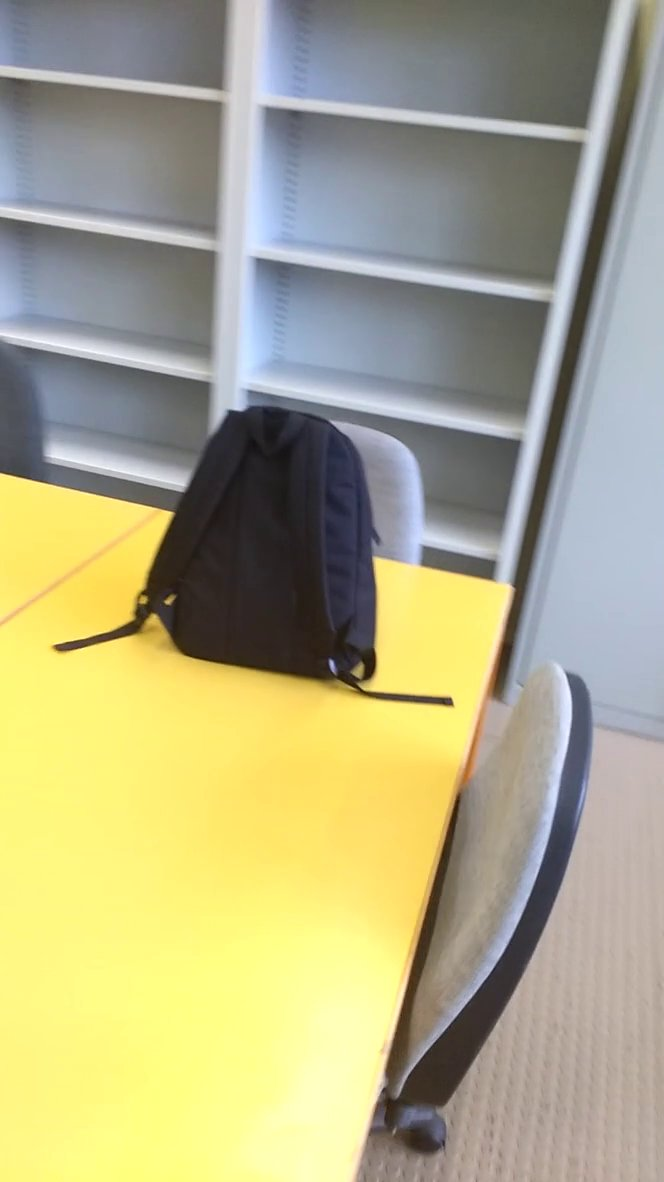bag: (55, 401, 458, 711)
chair: (392, 623, 618, 1146)
